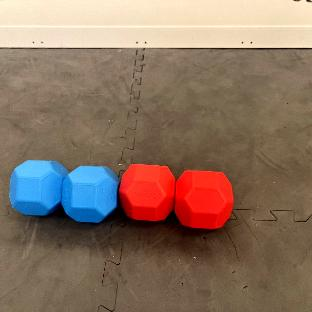V5_BLUE: (10, 159, 120, 222)
V5_RED: (174, 169, 234, 228), (119, 163, 174, 220)
pieces: (8, 154, 236, 234)
